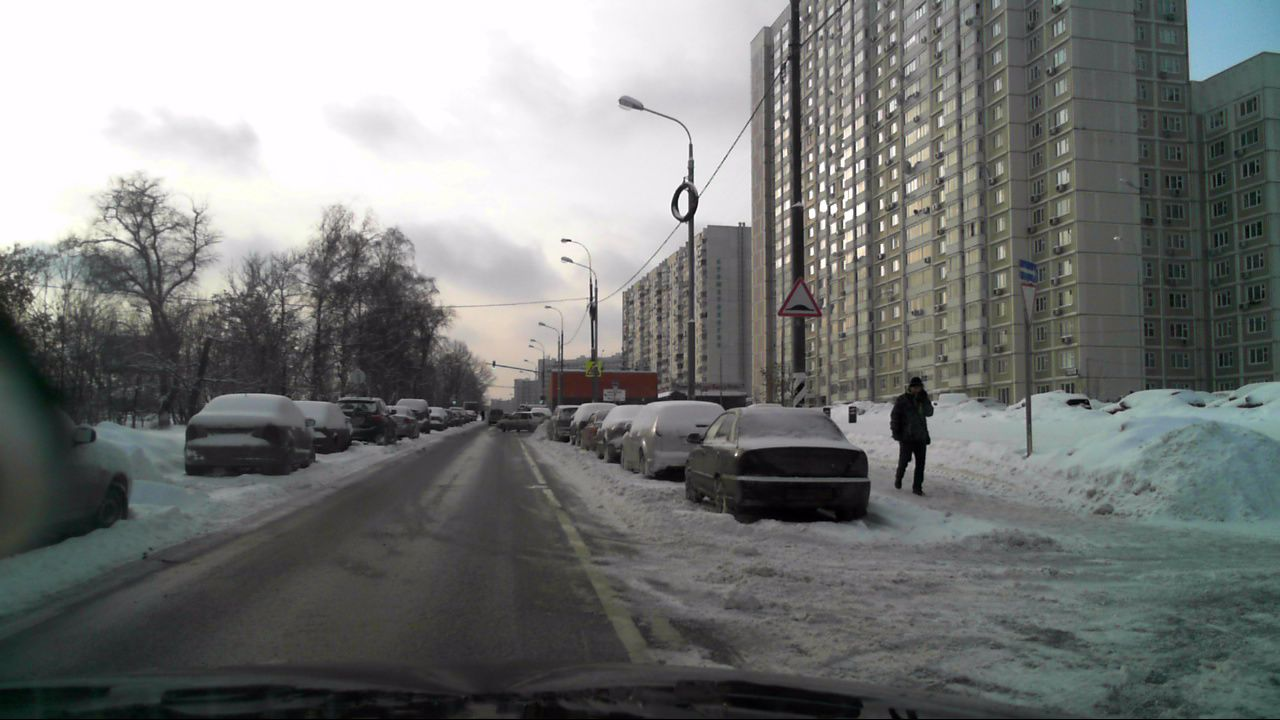One-Way Traffic: (1019, 259, 1039, 282)
